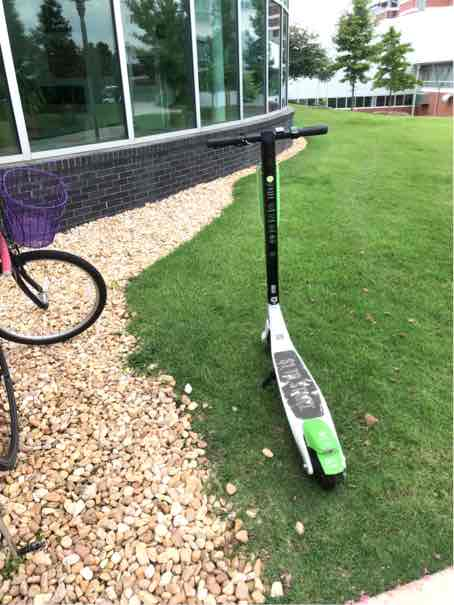scooter: (206, 120, 371, 485)
